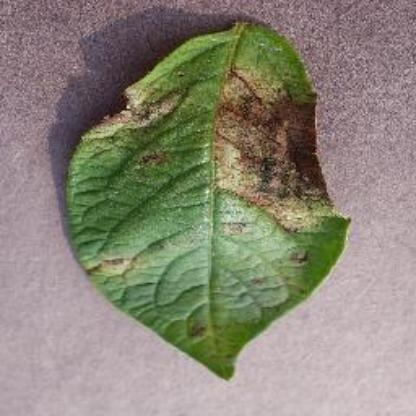Late-Blight: (61, 20, 355, 382)
